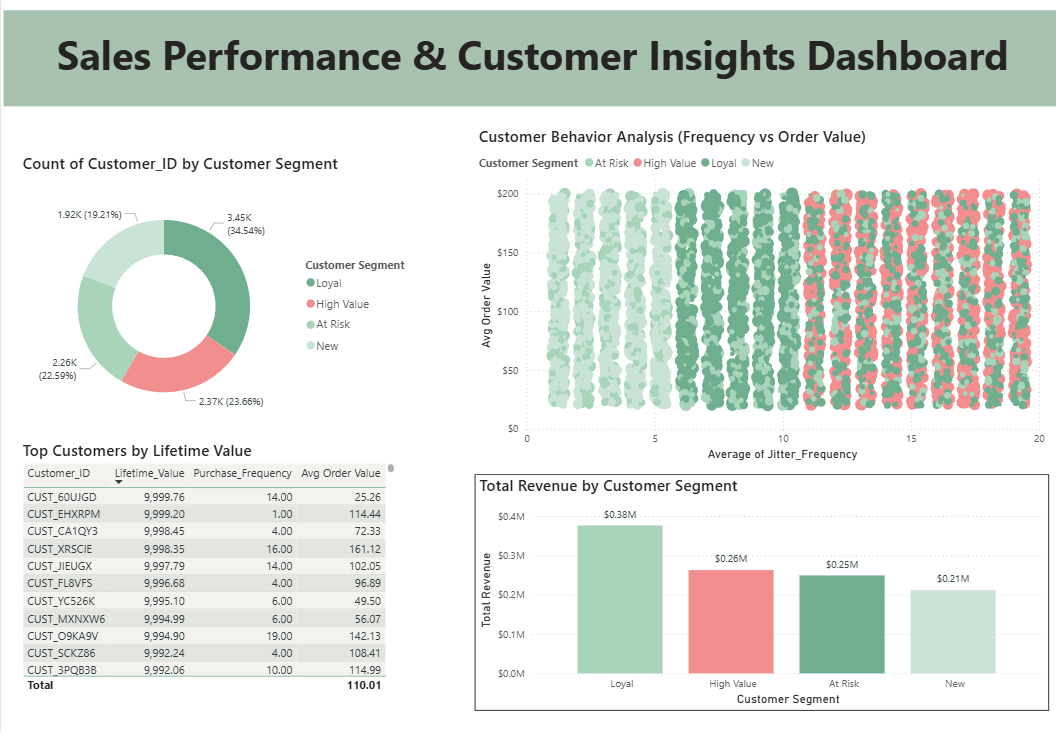

This screenshot's page, from the dashboard's own definition file:
{"tool":"powerbi","page":{"name":"Customer Insights","canvas":[1280,900],"ordinal":1},"visuals":[{"type":"donutChart","fields":{"Category":["Sales_Data.Customer Segment"],"Y":["CountNonNull(Sales_Data.Customer_ID)"]},"box":[21.1,196.9,487.1,345.7],"z":0},{"type":"tableEx","title":"Top Customers by Lifetime Value","fields":{"Values":["Sales_Data.Customer_ID","Sales_Data.Lifetime_Value","Sales_Data.Purchase_Frequency","Sales_Data.Avg Order Value"]},"box":[21.1,542.6,458.6,311.4],"z":1000},{"type":"scatterChart","title":"Customer Behavior Analysis (Frequency vs Order Value)","fields":{"Y":["Sales_Data.Avg Order Value"],"Size":["Avg(Sales_Data.Lifetime_Value)"],"Category":["Sales_Data.Customer_ID"],"Series":["Sales_Data.Customer Segment"],"X":["Avg(Sales_Data.Jitter_Frequency)"]},"box":[571.1,164,692.9,410],"z":2000},{"type":"clusteredColumnChart","fields":{"Category":["Sales_Data.Customer Segment"],"Y":["Sales_Data.Total Revenue"]},"box":[571.1,585.4,692.9,285.7],"z":3000},{"type":"textbox","box":[2.9,25.7,1277.1,115.7],"z":4000}]}

Visuals, with their boxes in screenshot pixels (x1, y1, x2, y2), scaled from the page's 1280x900 canvas onto the 1056x733 screenshot:
donutChart - Sales_Data.Customer Segment x CountNonNull(Sales_Data.Customer_ID): BBox(17, 160, 419, 442)
"Top Customers by Lifetime Value" tableEx: BBox(17, 442, 396, 696)
"Customer Behavior Analysis (Frequency vs Order Value)" scatterChart: BBox(471, 134, 1043, 467)
clusteredColumnChart - Sales_Data.Customer Segment x Sales_Data.Total Revenue: BBox(471, 477, 1043, 709)
textbox: BBox(2, 21, 1055, 115)
